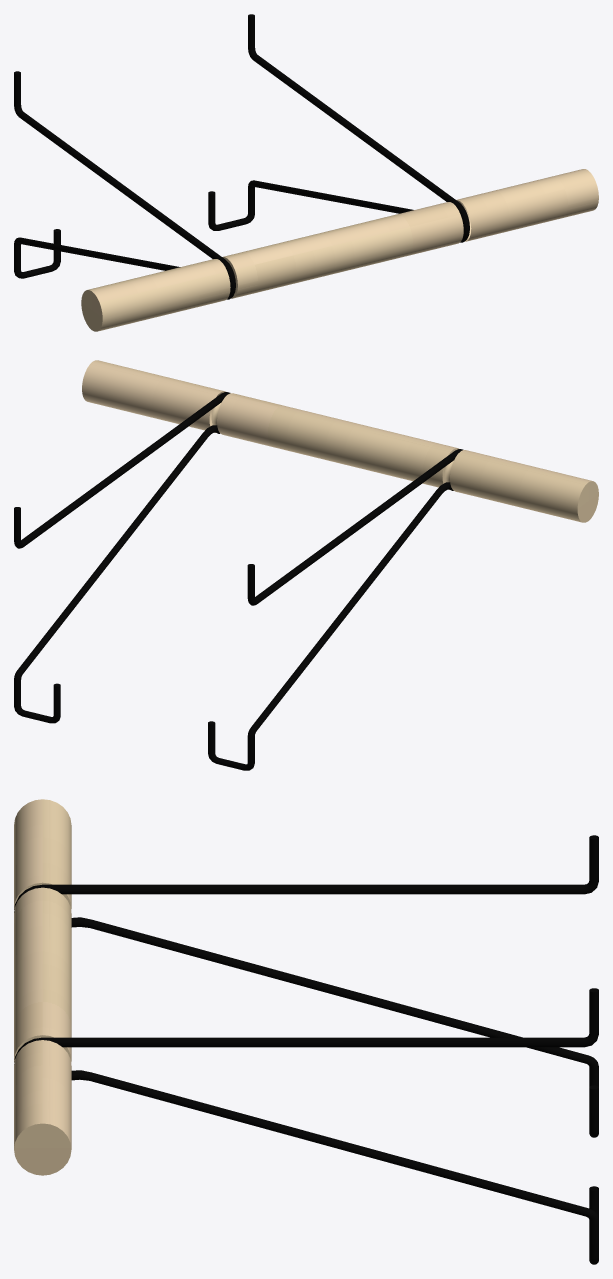
File: wardrobe40.glb
The picture shows the model from 3 angles, top to bottom: view 1: azimuth 30°, elevation 25°; view 2: azimuth 150°, elevation 25°; view 3: azimuth 270°, elevation 25°; orthographic projection. The views are drawn at different scales.
Visible parts, largest first — view 1: Geom3D (×3); view 2: Geom3D (×3); view 3: Geom3D (×3).
Boxes of the visible parts, x1,y1,x2,y2 form: Geom3D (×3): (14,14,598,331); Geom3D (×3): (14,360,598,770); Geom3D (×3): (14,799,598,1264).
Bounding box in the file's own units: 0.4 × 0.1593 × 0.305.
Materials: 2 (1 with a texture image).
